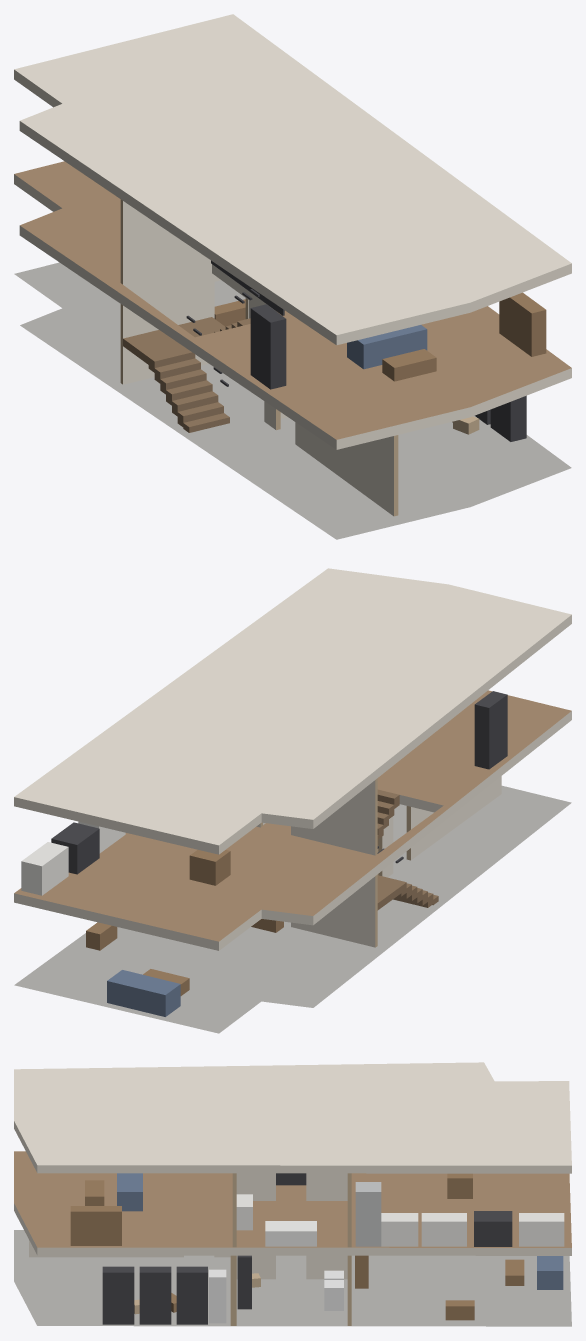
File: interior.glb
3 views of the same model, one above another, from view 1: azimuth 30°, elevation 25°; view 2: azimuth 150°, elevation 25°; view 3: azimuth 270°, elevation 25° (orthographic). The views are drawn at different scales.
Visible parts, largest first — view 1: slabs, partitions, coarse-s1, stair, coarse-s0; view 2: slabs, partitions, coarse-s1, coarse-s0, stair; view 3: slabs, coarse-s1, coarse-s0, partitions, stair.
Boxes of the visible parts, bbox=[...] form: slabs: bbox=[14, 14, 571, 539]; partitions: bbox=[120, 199, 398, 516]; coarse-s1: bbox=[250, 292, 546, 389]; stair: bbox=[123, 260, 284, 432]; coarse-s0: bbox=[214, 299, 526, 441]; slabs: bbox=[14, 568, 571, 1033]; partitions: bbox=[256, 776, 501, 947]; coarse-s1: bbox=[21, 691, 507, 895]; coarse-s0: bbox=[86, 919, 283, 1016]; stair: bbox=[377, 789, 438, 910]; slabs: bbox=[14, 1062, 571, 1326]; coarse-s1: bbox=[70, 1173, 564, 1246]; coarse-s0: bbox=[102, 1255, 563, 1324]; partitions: bbox=[29, 1173, 351, 1325]; stair: bbox=[276, 1173, 306, 1185].
Bounding box in the file's own units: 7.28 × 5.3 × 16.61.
